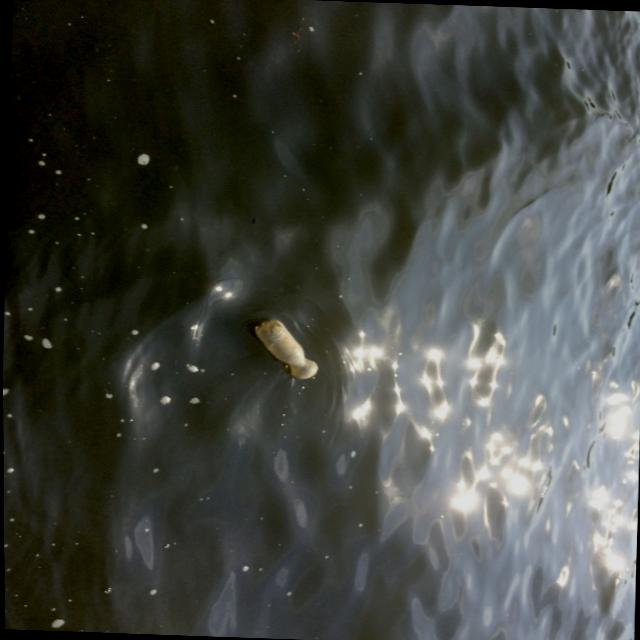Plastic: (248, 316, 320, 380)
